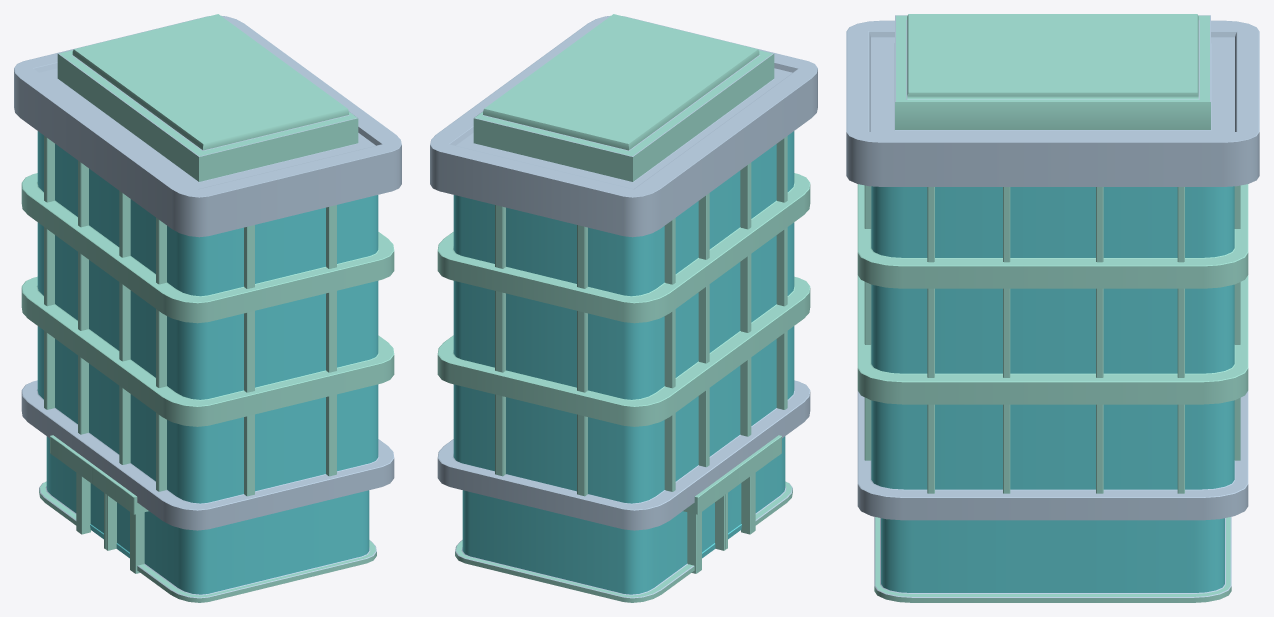
The model's file is edificio1_uvs.fbx.
3 renders of one model, left to right at view 1: azimuth 30°, elevation 25°; view 2: azimuth 150°, elevation 25°; view 3: azimuth 270°, elevation 25°, orthographic. The views are drawn at different scales.
Parts seen in each view (by area): view 1: Cube.003; view 2: Cube.003; view 3: Cube.003.
Boxes of the visible parts, x1,y1,x2,y2 form: Cube.003: (14, 14, 401, 602); Cube.003: (430, 14, 817, 602); Cube.003: (846, 14, 1259, 602).
Bounding box in the file's own units: 799 × 1493 × 1119.
